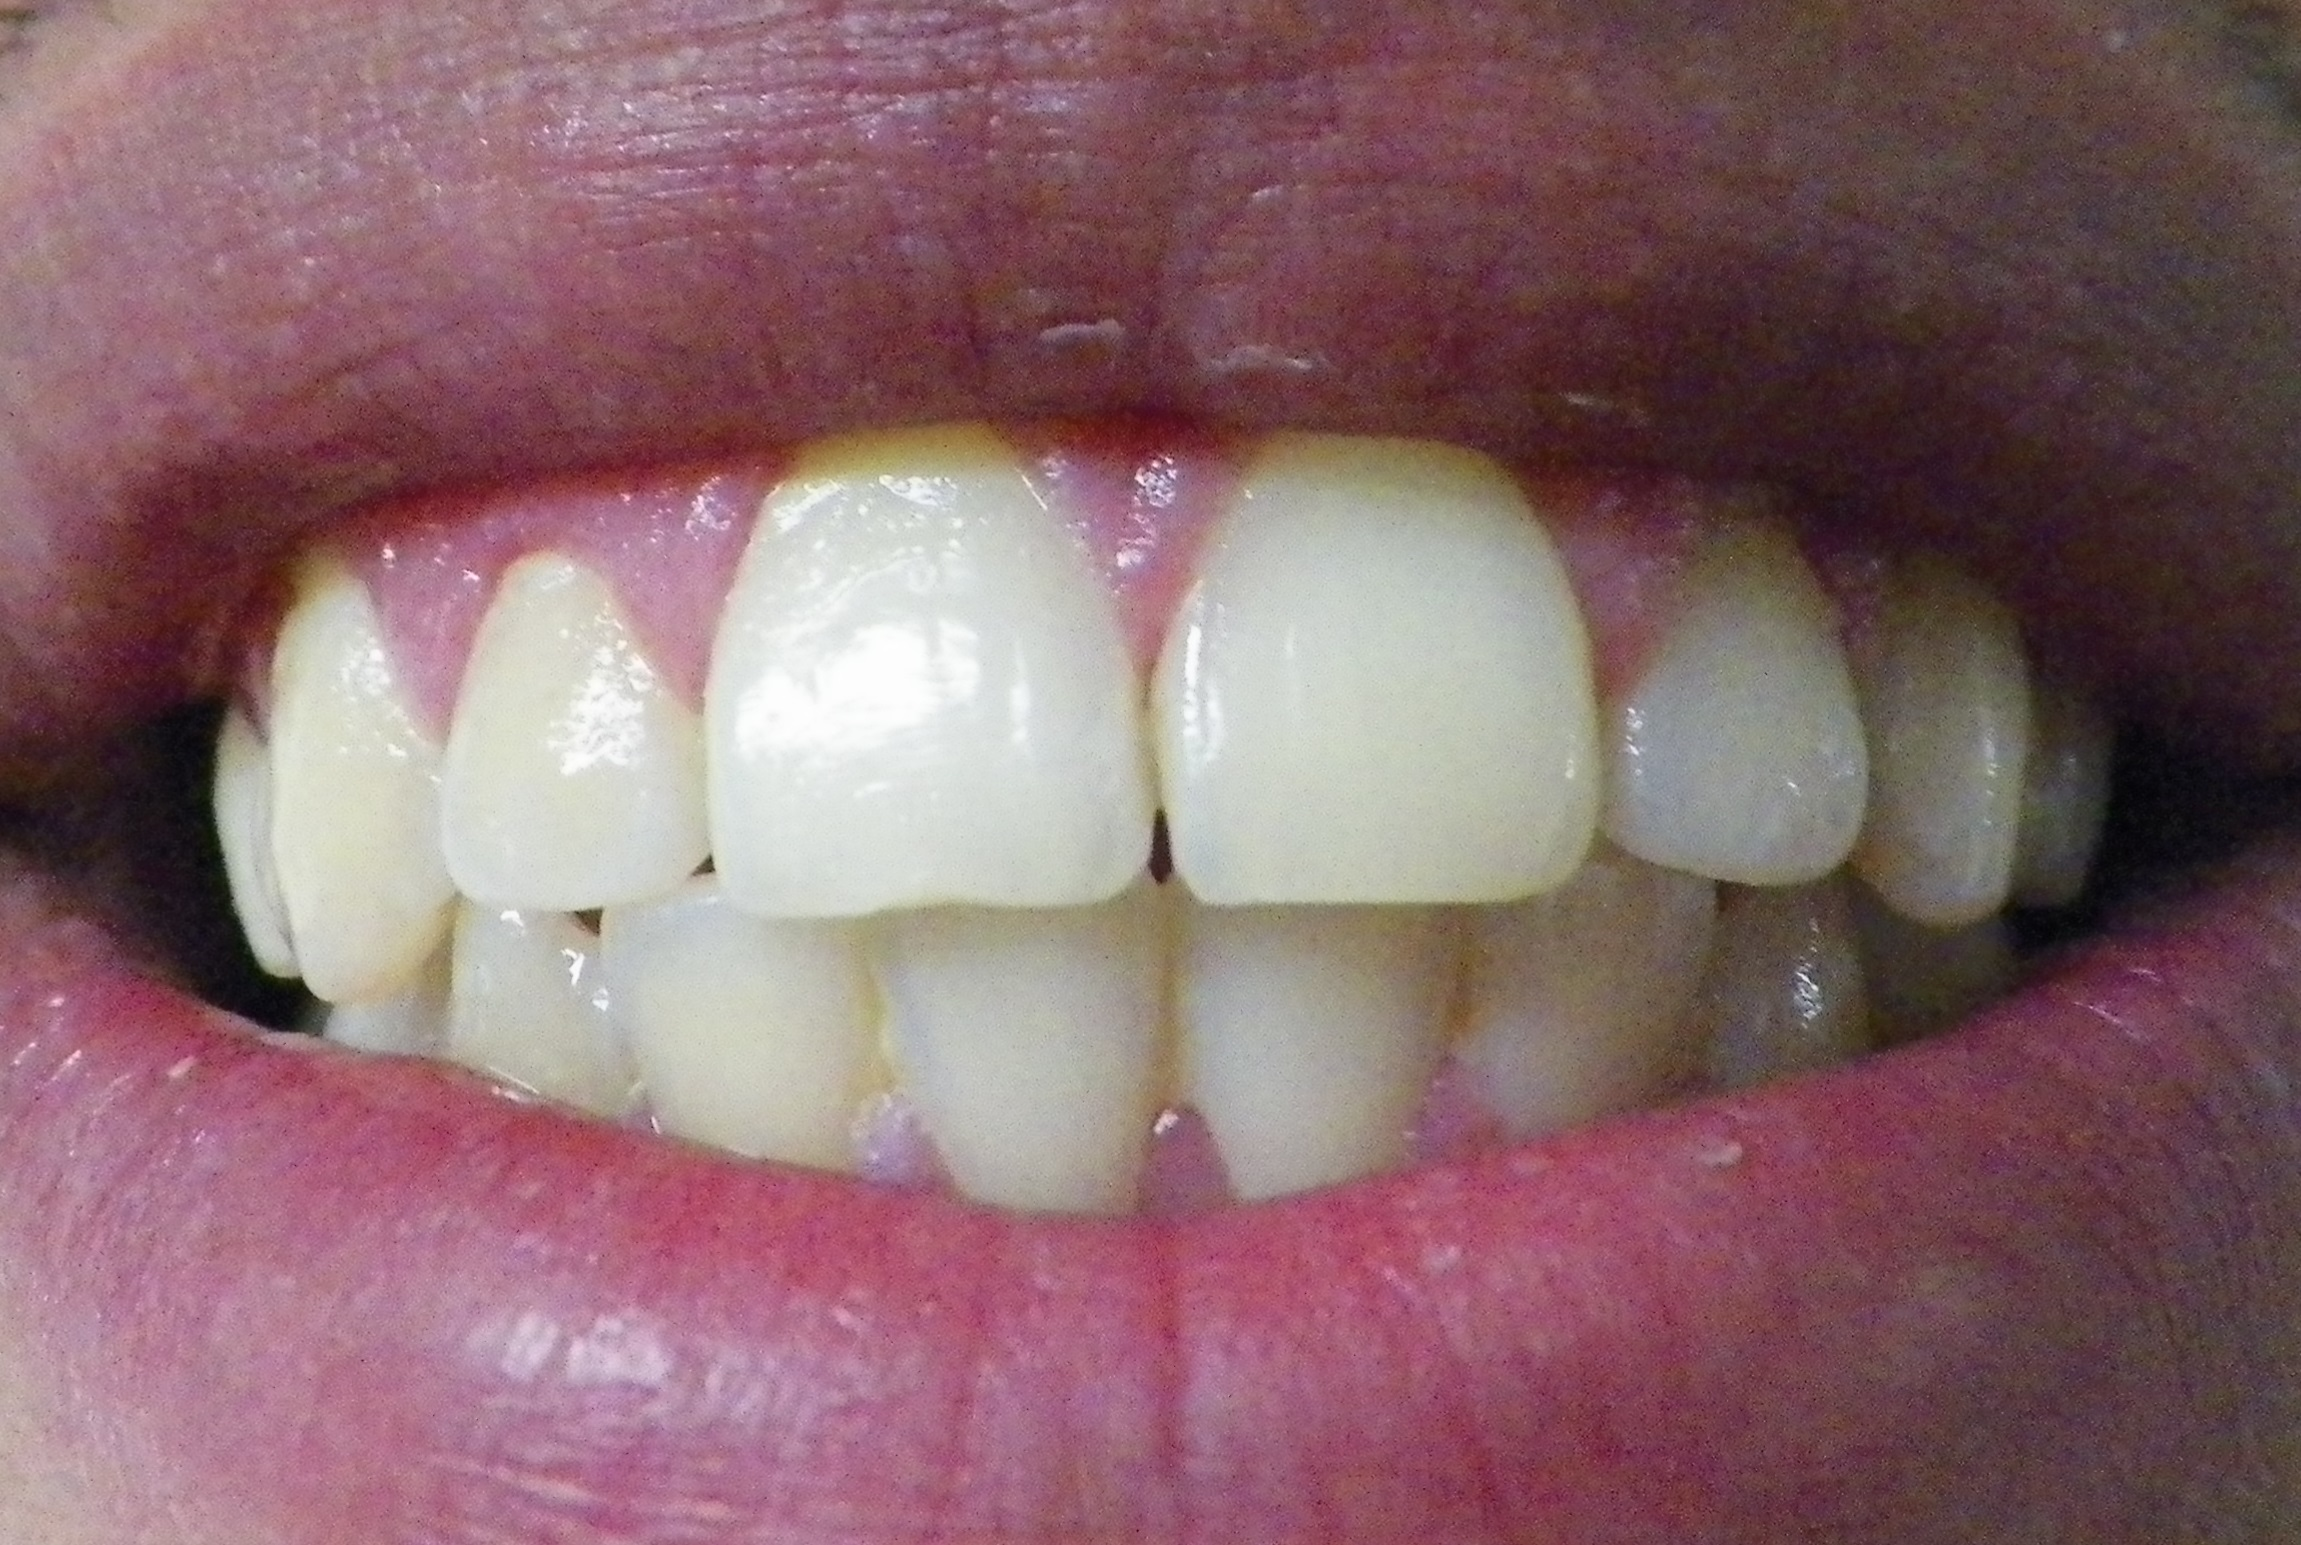boca: (226, 445, 2094, 1198)
